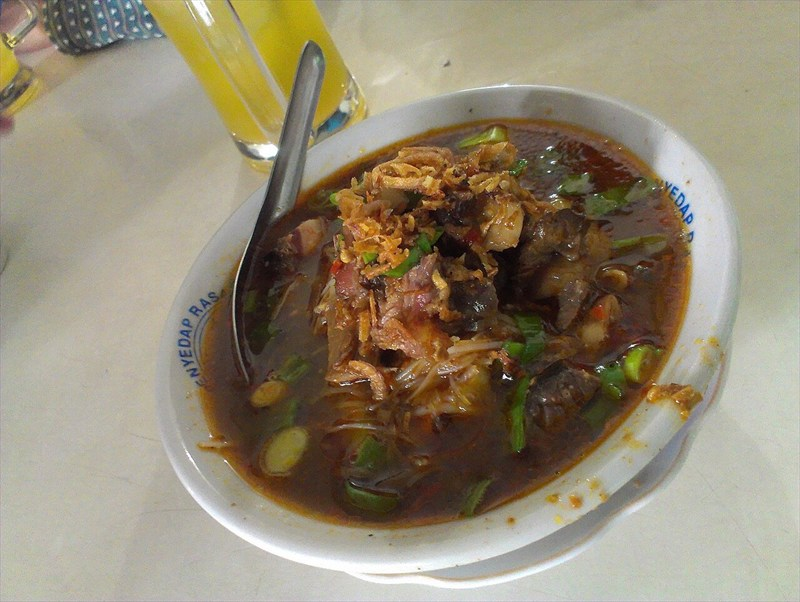Soto Ayam: (212, 119, 678, 513)
